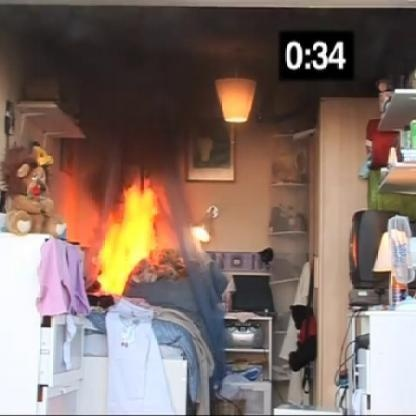fire: (72, 165, 179, 295)
